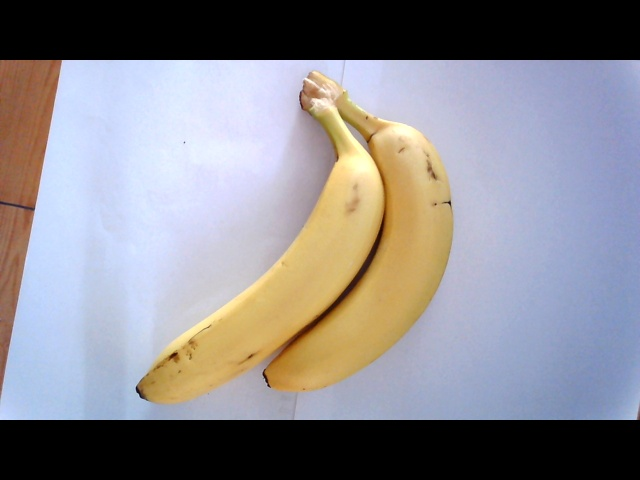banana: (148, 124, 463, 407)
